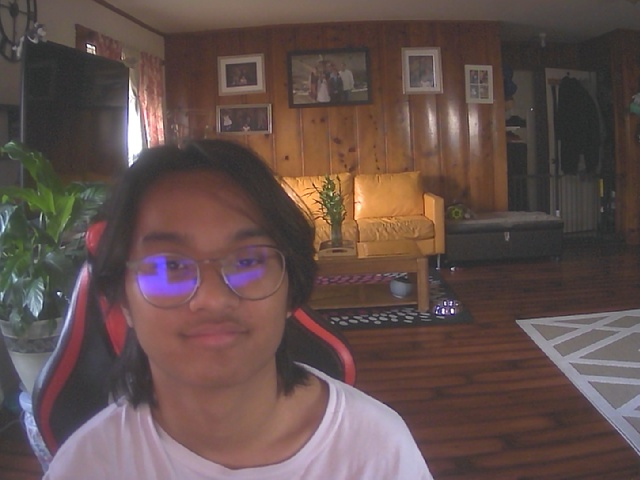happy: (116, 156, 307, 390)
